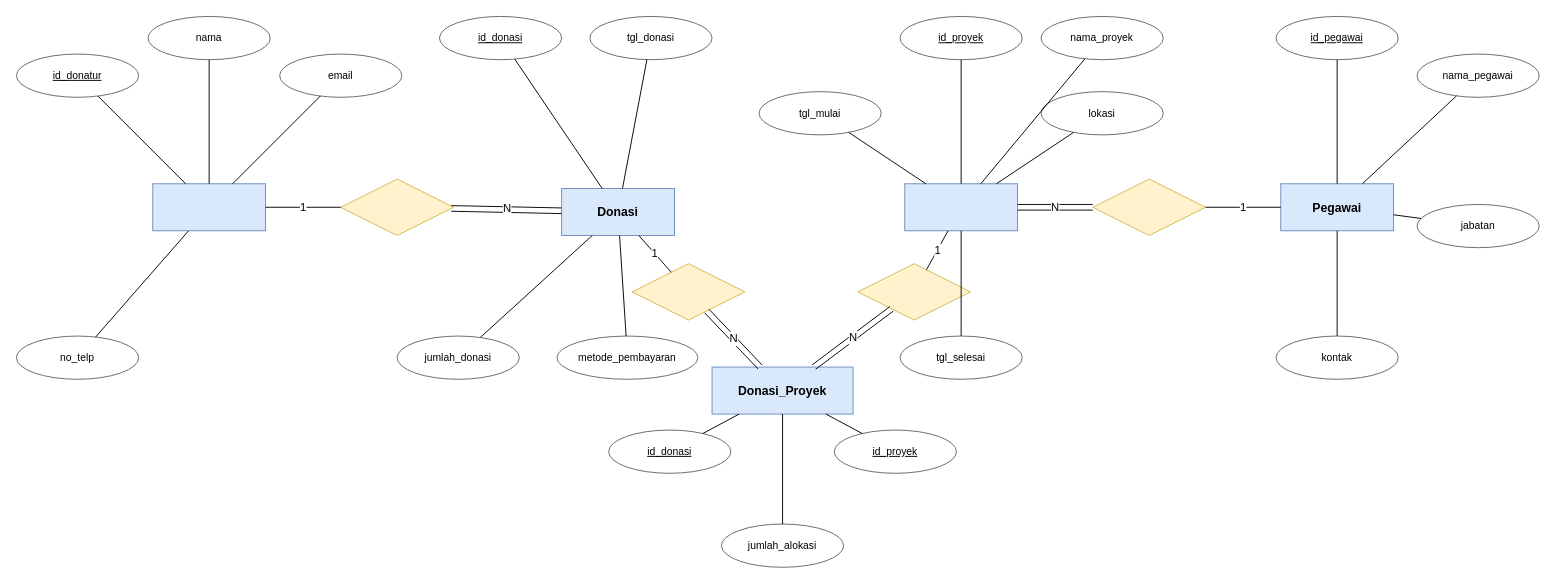
This 1556x584 diagram has some shape labels left out. The box of each missing label's shape, as (x1, y1, x2, y2) in pixels:
dialokasikan: (857, 263, 971, 320)
Donatur: (152, 183, 266, 231)
memberikan: (340, 178, 454, 235)
memiliki: (631, 263, 745, 320)
mengelola: (1092, 178, 1206, 235)
Proyek: (904, 183, 1018, 231)
